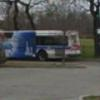buses: (0, 30, 82, 62)
